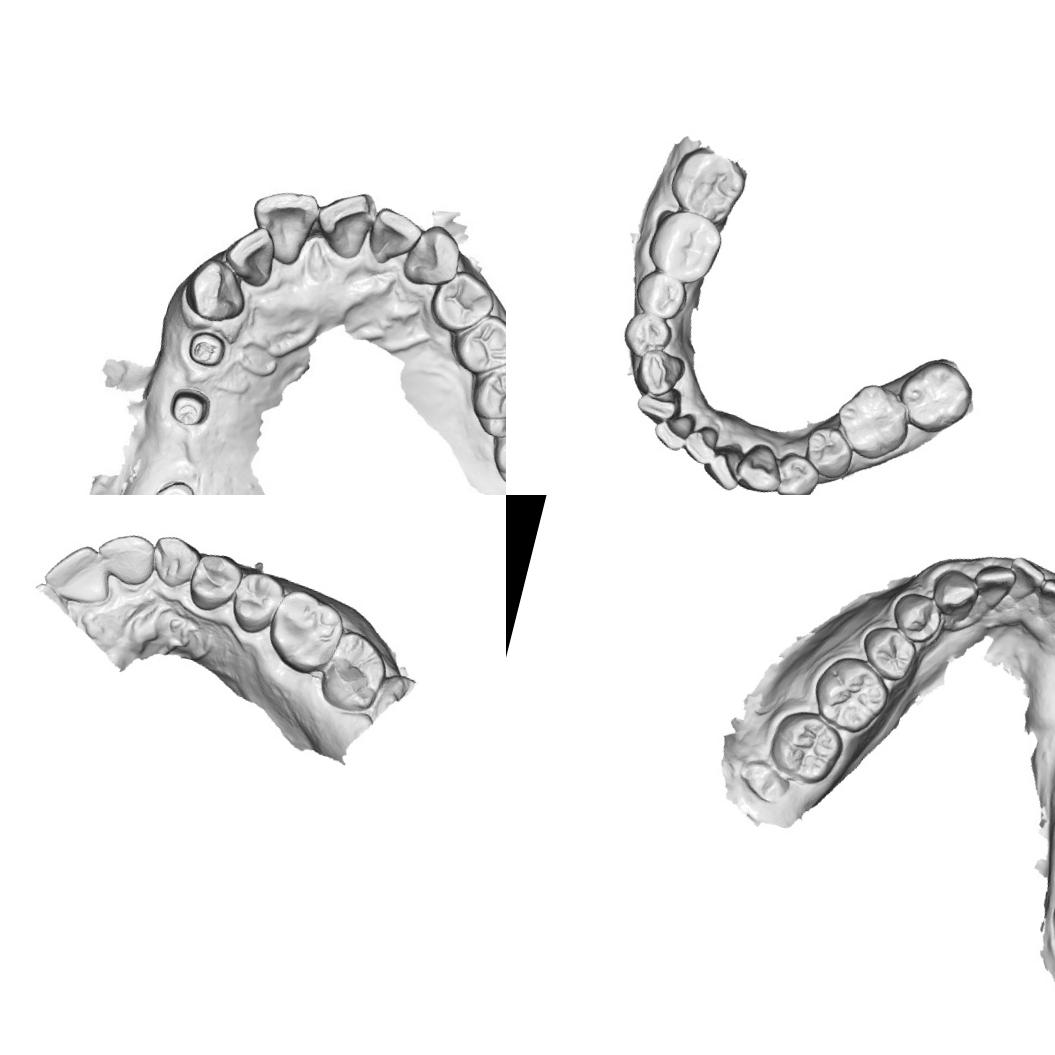canine: (397, 217, 472, 296), (177, 251, 253, 328), (145, 530, 204, 590), (925, 564, 981, 626), (630, 344, 688, 402), (731, 437, 789, 495)
implant: (160, 380, 220, 440), (181, 327, 232, 371), (148, 473, 199, 495)
incisor: (240, 180, 324, 271), (36, 534, 120, 612), (306, 178, 380, 264), (89, 524, 160, 592), (362, 202, 427, 272), (221, 220, 284, 292), (966, 558, 1019, 615), (698, 436, 747, 492), (633, 377, 686, 427), (649, 404, 700, 455), (1001, 553, 1048, 608), (678, 418, 722, 469), (1030, 572, 1055, 626)
molar: (804, 646, 898, 740), (260, 584, 351, 680), (826, 375, 918, 468), (890, 351, 980, 442), (762, 702, 850, 790), (640, 202, 728, 288), (662, 144, 751, 229), (315, 626, 394, 718), (459, 345, 506, 449), (485, 402, 506, 495)
premolar: (421, 262, 501, 340), (223, 564, 289, 640), (445, 304, 506, 384), (852, 620, 922, 686), (182, 546, 246, 618), (884, 586, 948, 648), (798, 420, 859, 483), (628, 265, 692, 323), (616, 308, 678, 365), (768, 447, 824, 495)
